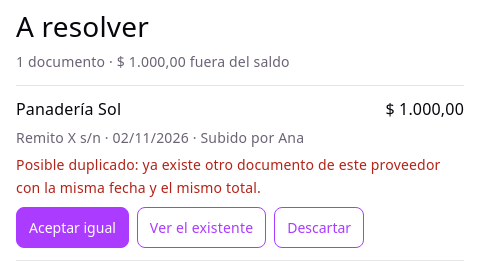
Scenario: A resolver › shows inline accept action and Ver el existente link for duplicate_suspected, and removes resolved document on accept
Check: the button "Descartar" is shown, box x1=274 y1=207 x2=364 y2=248
Click the button "Aceptar igual": (72, 228) x1=16 y1=207 x2=129 y2=248
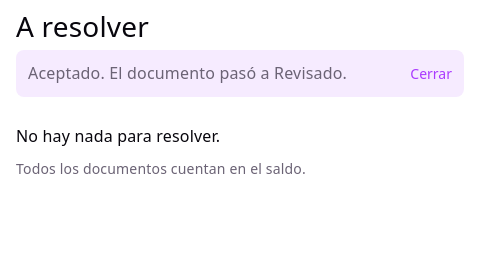
Check: the text "Aceptado. El documento pasó a Revisado." is shown, box x1=28 y1=62 x2=347 y2=85
Check: the text "No hay nada para resolver." is shown, box x1=16 y1=125 x2=220 y2=149
